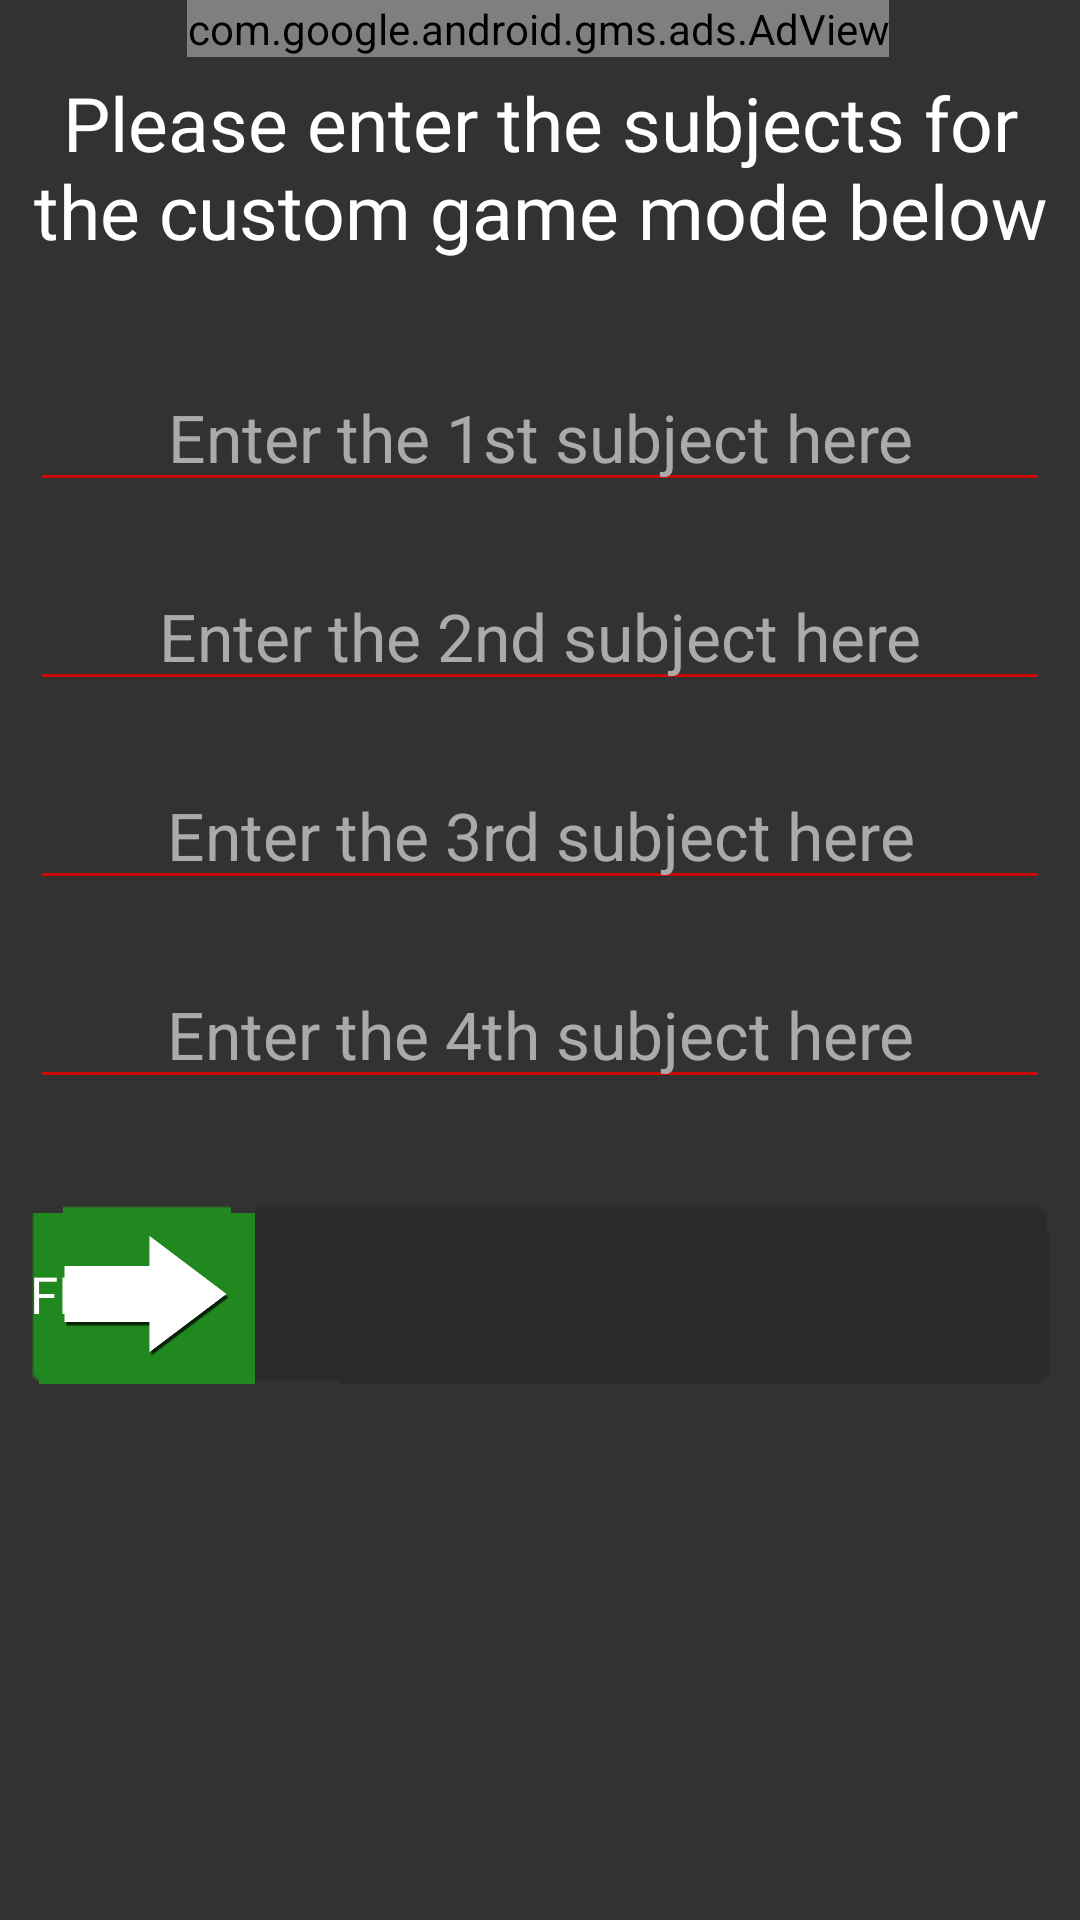

Icon bounding boxes for this 1080x1920 phone screenshot, format (x1, y1, x2, y2):
helper next: (32, 1206, 255, 1384)
